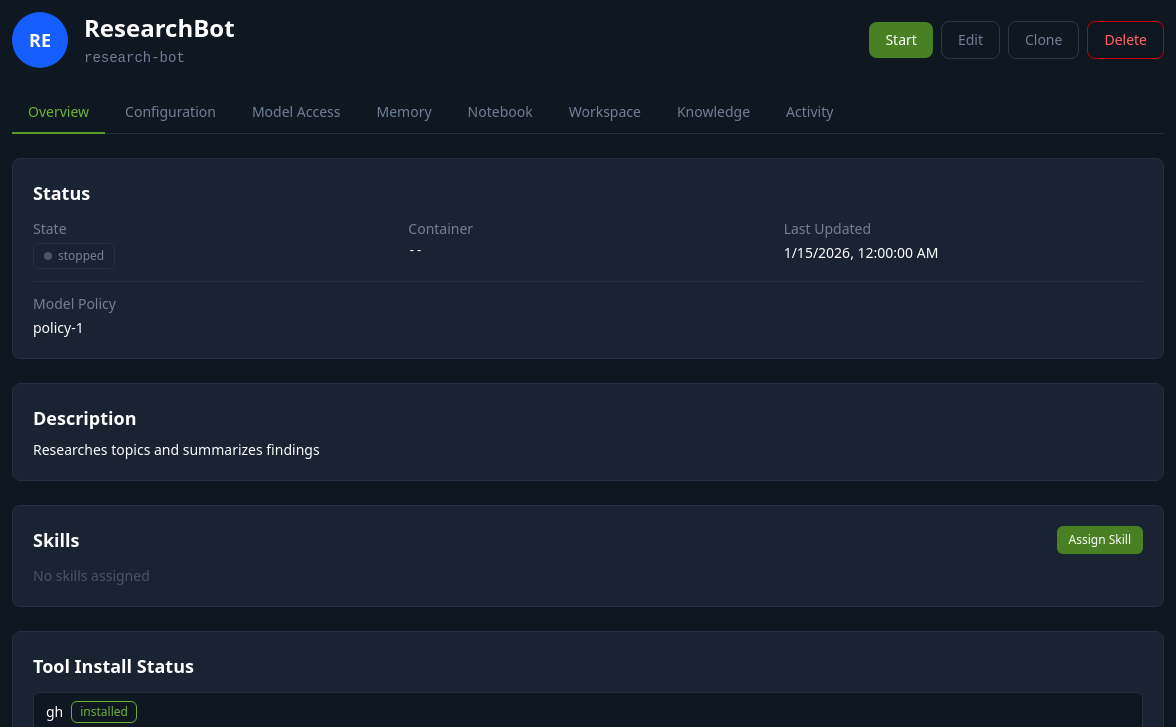
Test: AgentDetailClient › Raw Logs sub-view visible to admins
This screenshot has width=1176, height=727.
Expected: the heading "ResearchBot" is shown, [84,12,235,44]
# Click Activity tab
Click the button "Activity" at (810, 113), box [770,92,849,134]
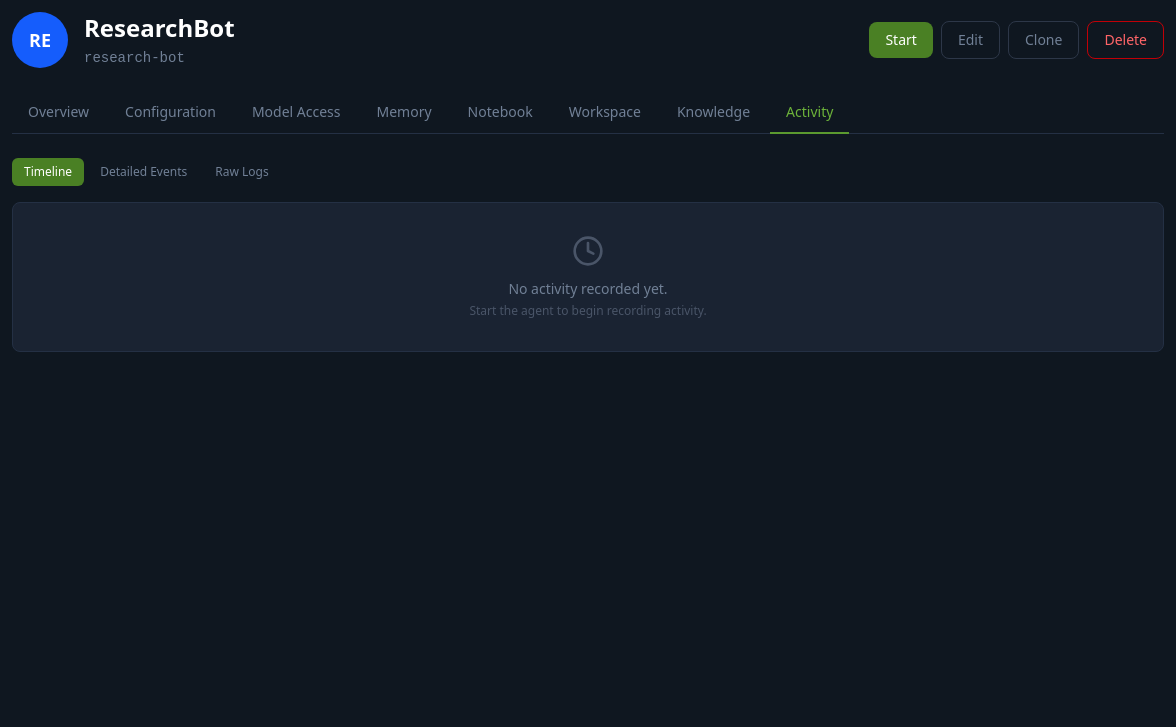
Result: the button with test id "raw-logs-toggle" is shown at [203,158,281,186]
